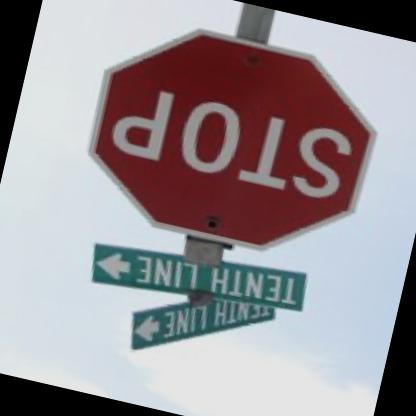stop: (71, 10, 394, 278)
